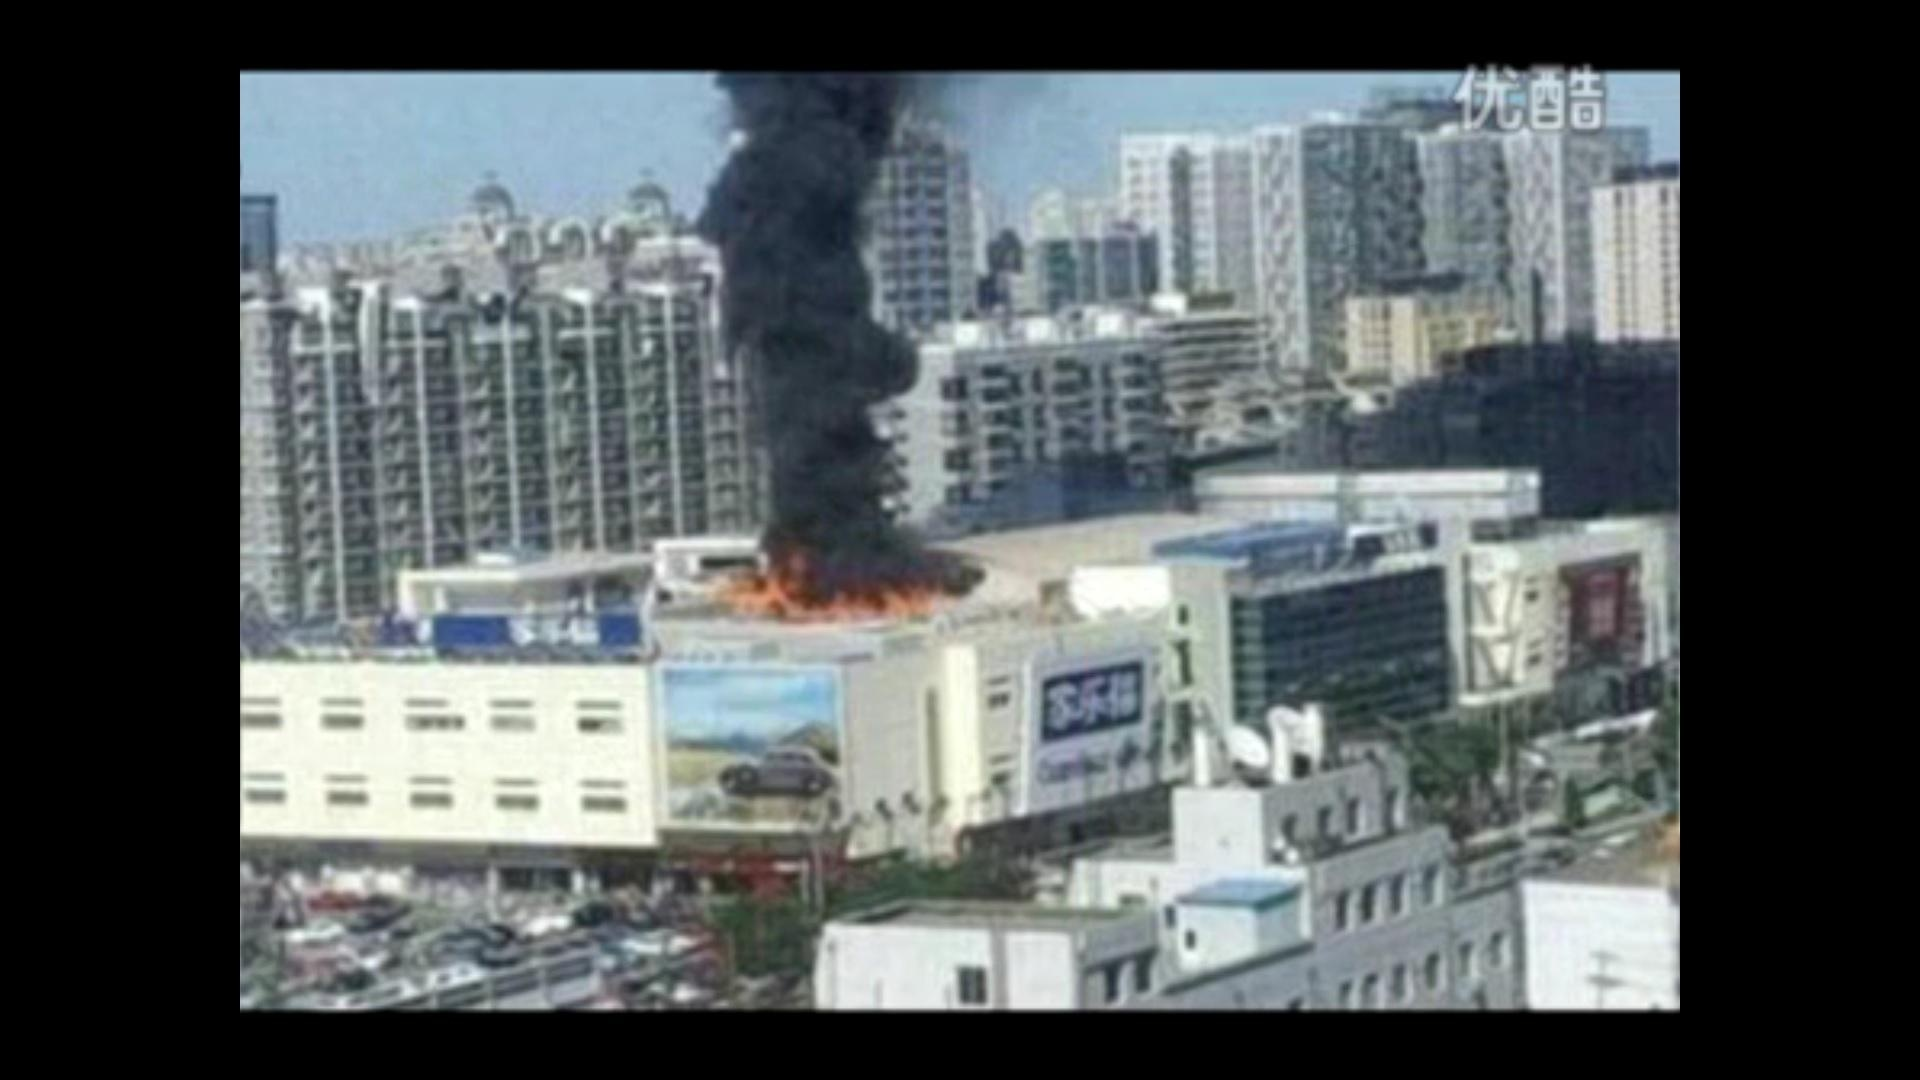fire: (727, 546, 957, 626)
